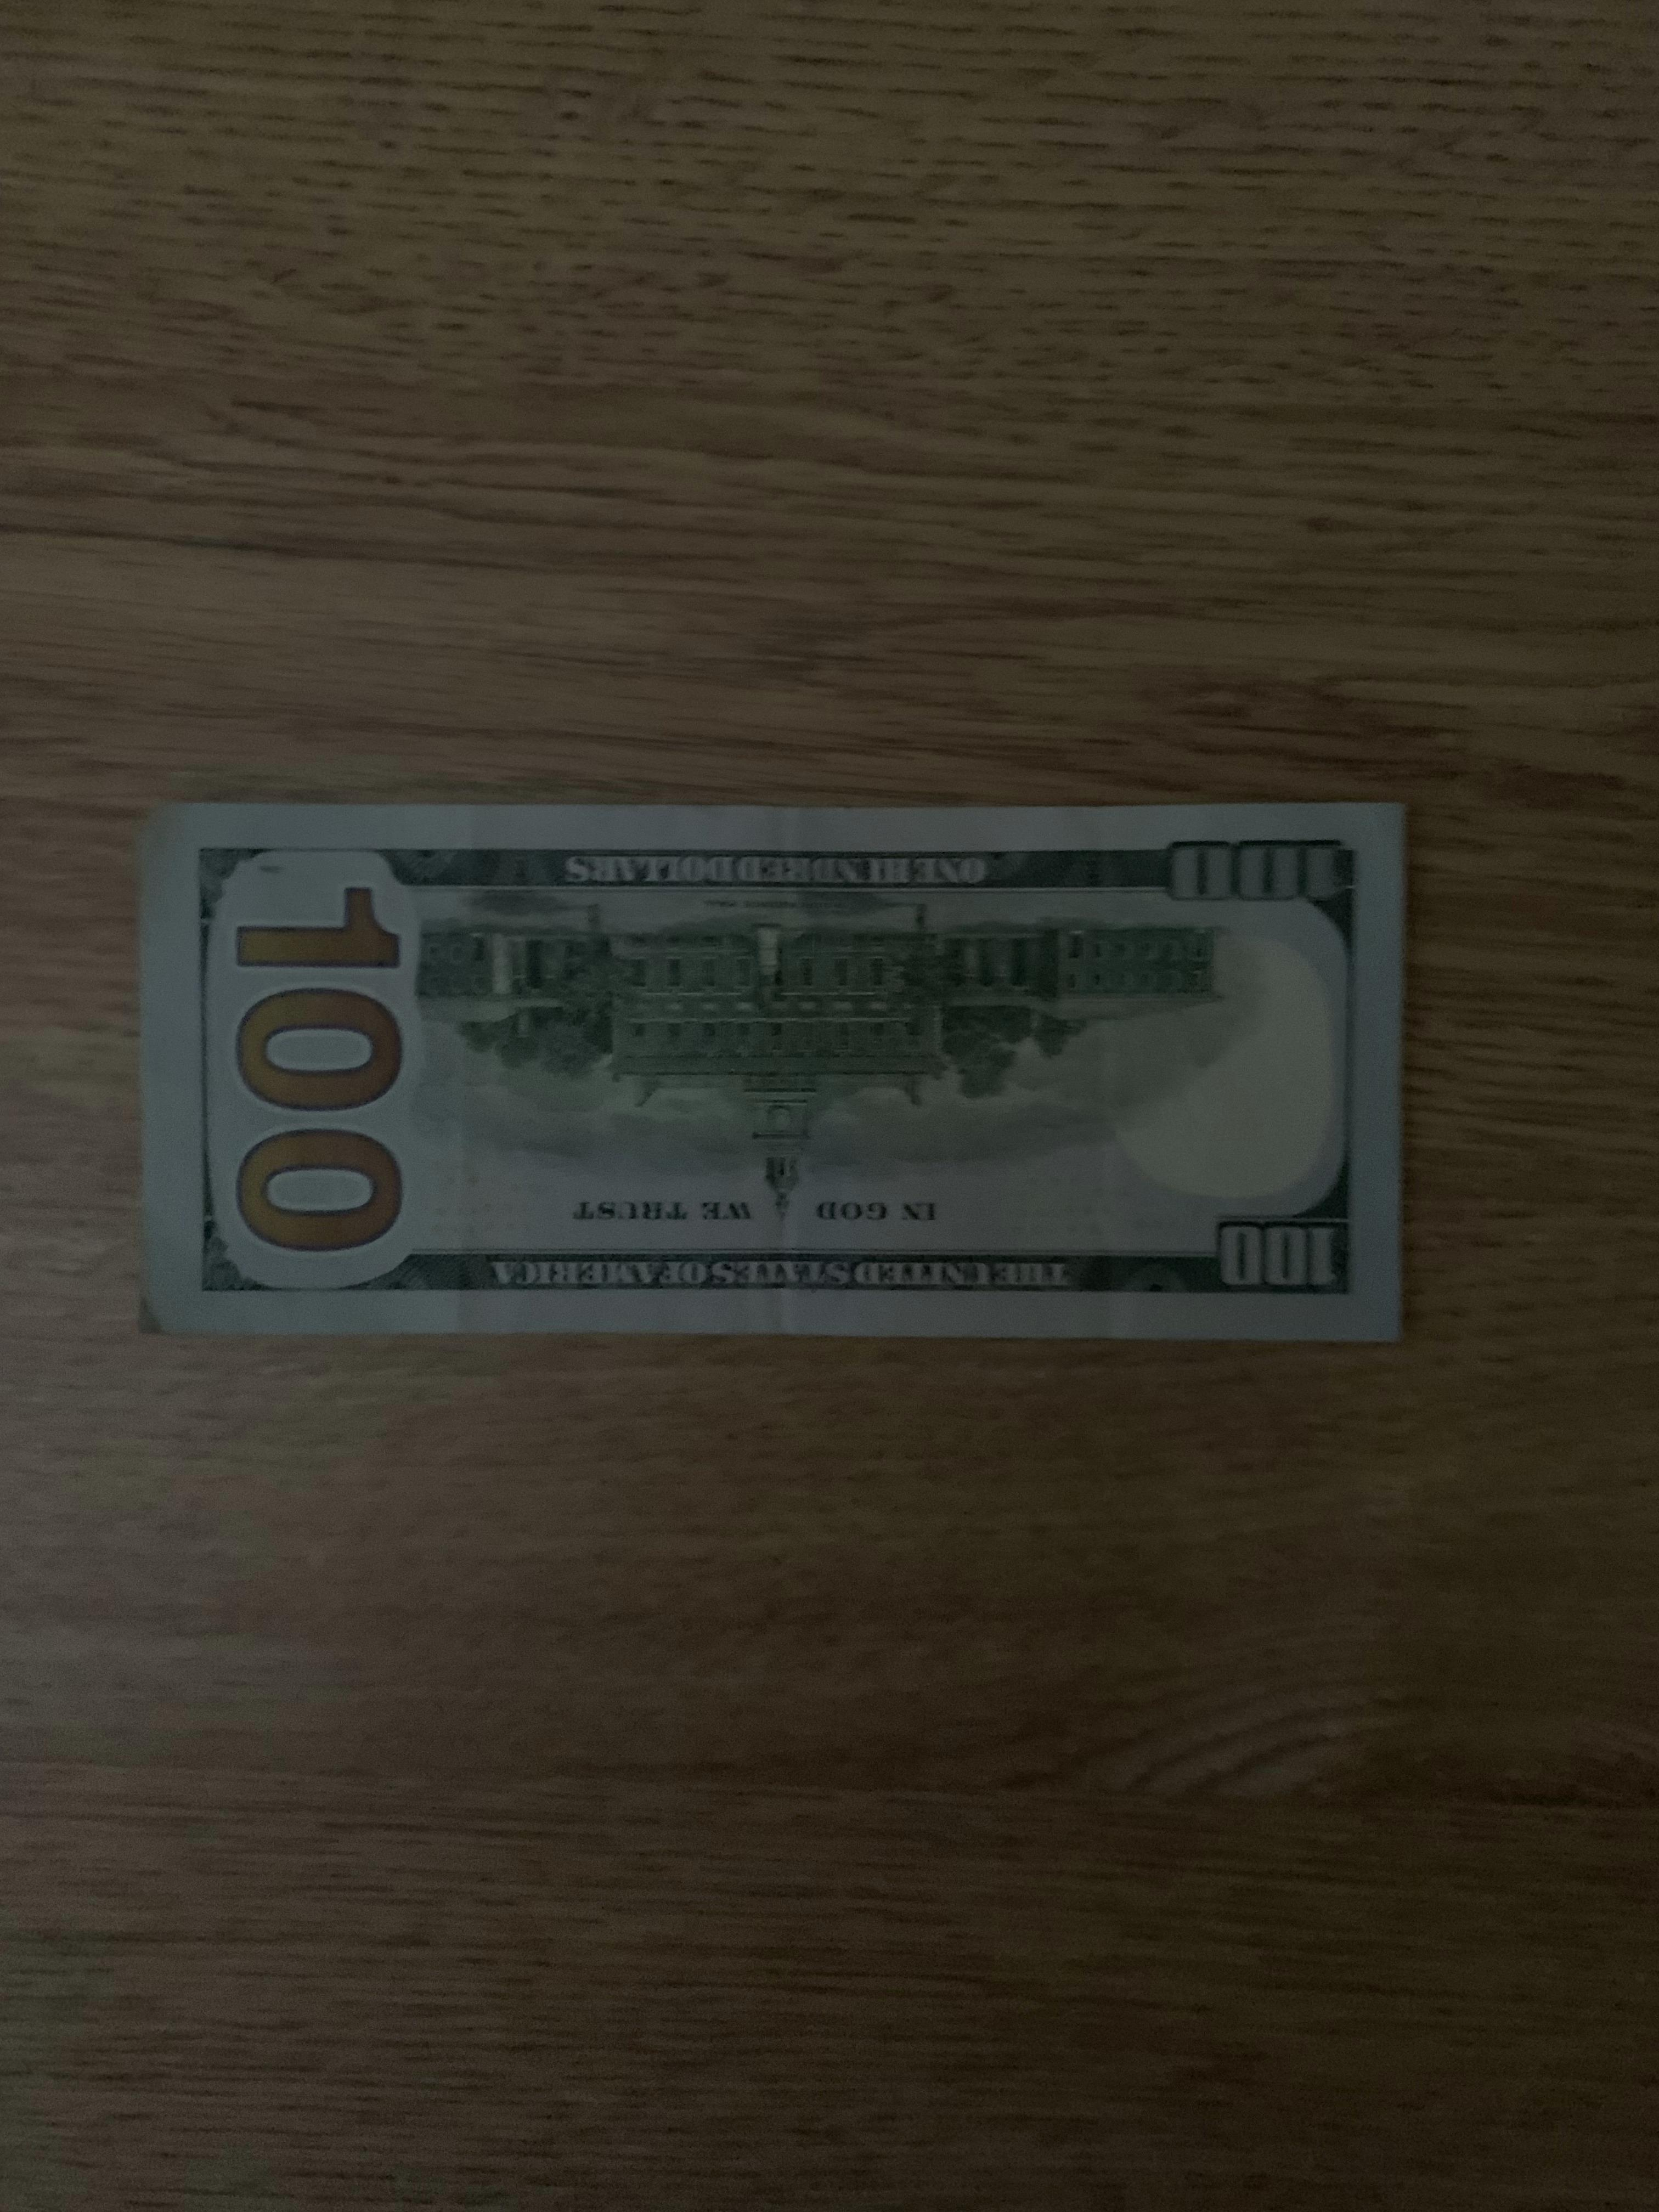HundredBill: (131, 792, 1417, 1341)
